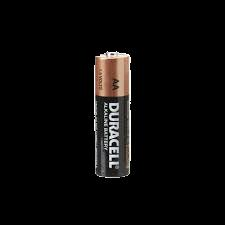Battery: (94, 52, 131, 180)
